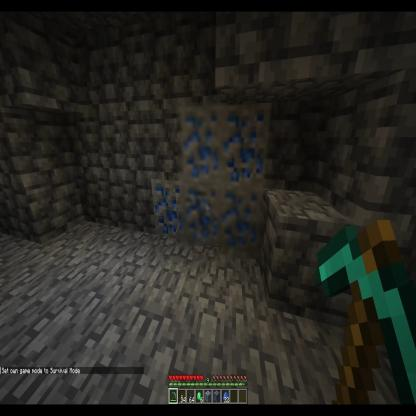lapis ore: (220, 103, 272, 189), (178, 104, 228, 186), (221, 187, 263, 259), (180, 179, 224, 246), (151, 176, 186, 250)
